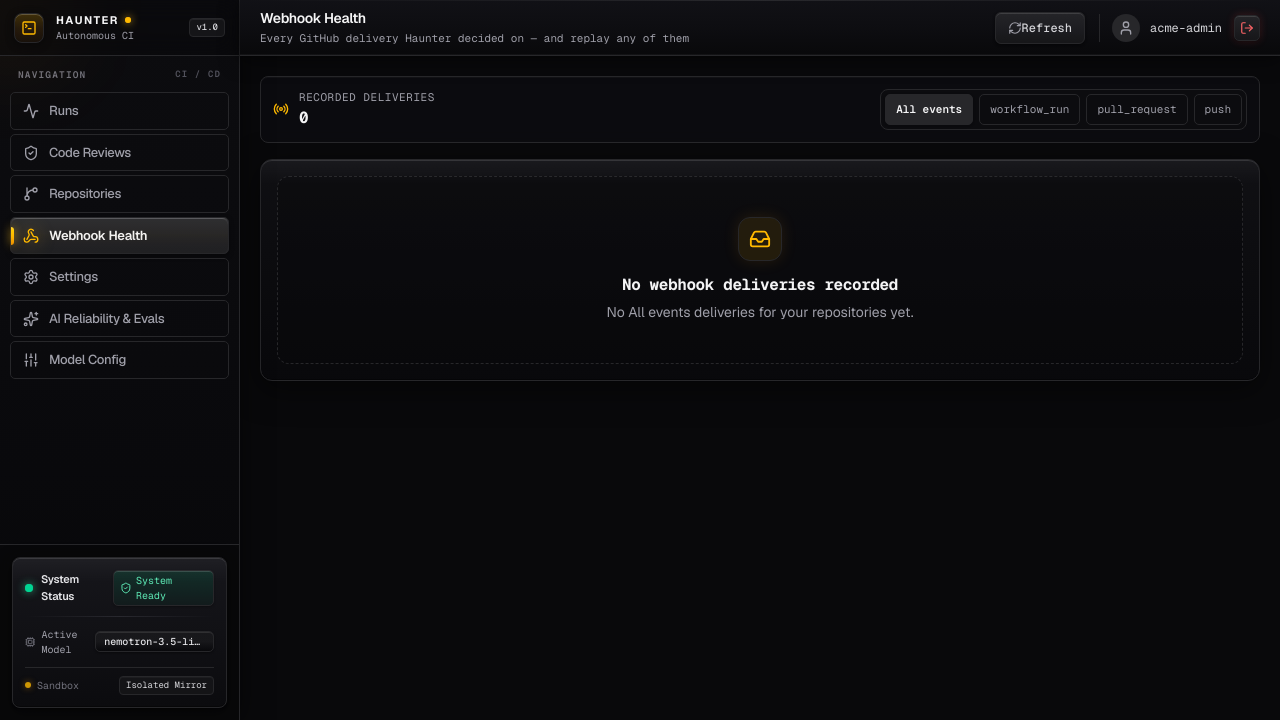
Test: WebhooksPage (app/webhooks/page.tsx) › names the active filter in the empty state
This screenshot has width=1280, height=720.
Expected: the heading "No webhook deliveries recorded" is shown, [622, 274, 898, 294]
Click the button "push": (1218,109) [1194, 94, 1242, 124]
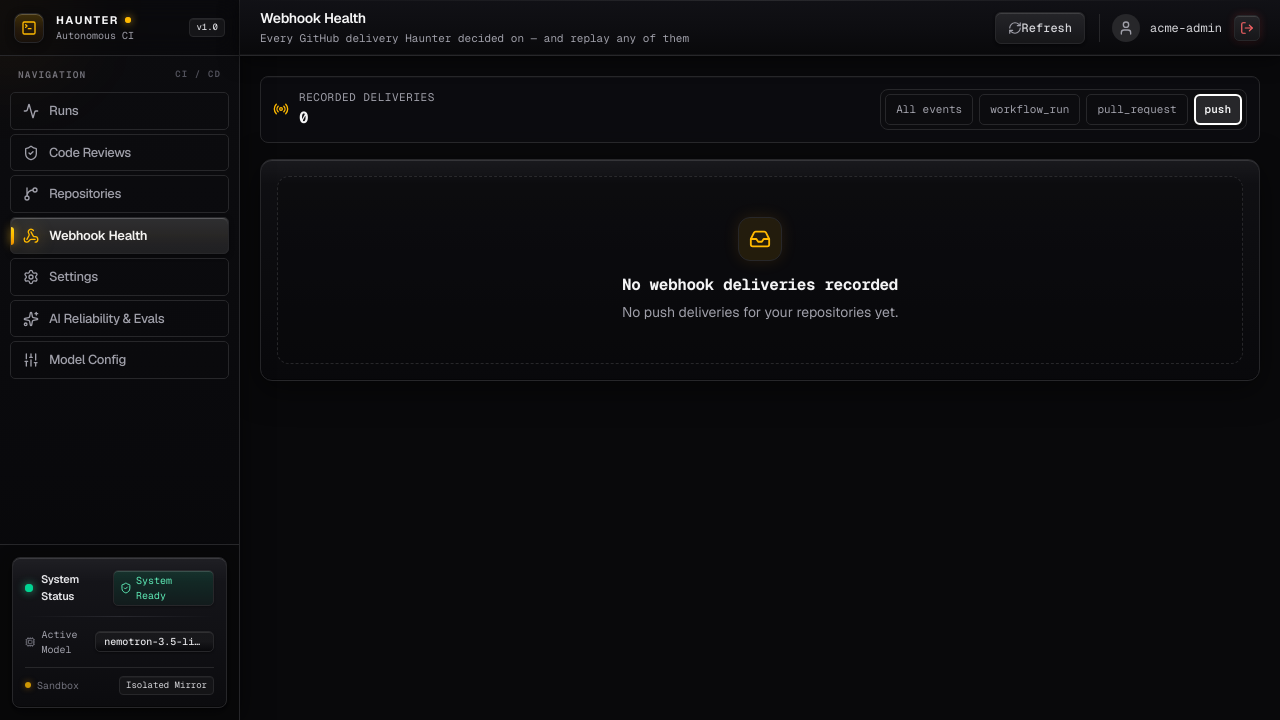
Expected: the text "No push deliveries for your repositories yet." is shown, [622, 302, 898, 320]
